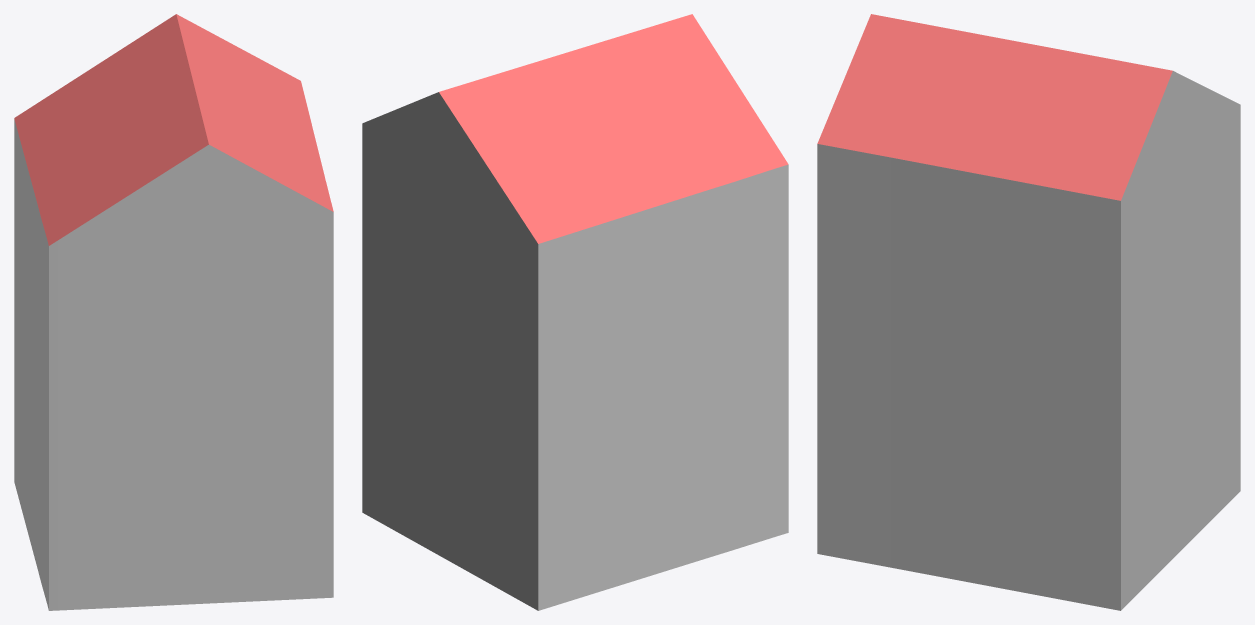
The model's file is DEBY_LOD2_4907201.gltf.
3 views of the same model, side by side, from view 1: azimuth 30°, elevation 25°; view 2: azimuth 150°, elevation 25°; view 3: azimuth 270°, elevation 25° (orthographic). The views are drawn at different scales.
Visible parts, largest first — view 1: Z_UP; view 2: Z_UP; view 3: Z_UP.
Boxes of the visible parts, x1,y1,x2,y2 form: Z_UP: (14,14,333,610); Z_UP: (362,14,788,610); Z_UP: (817,14,1240,610).
Size of the model in its own units: 15.4 by 20.03 by 15.74.
